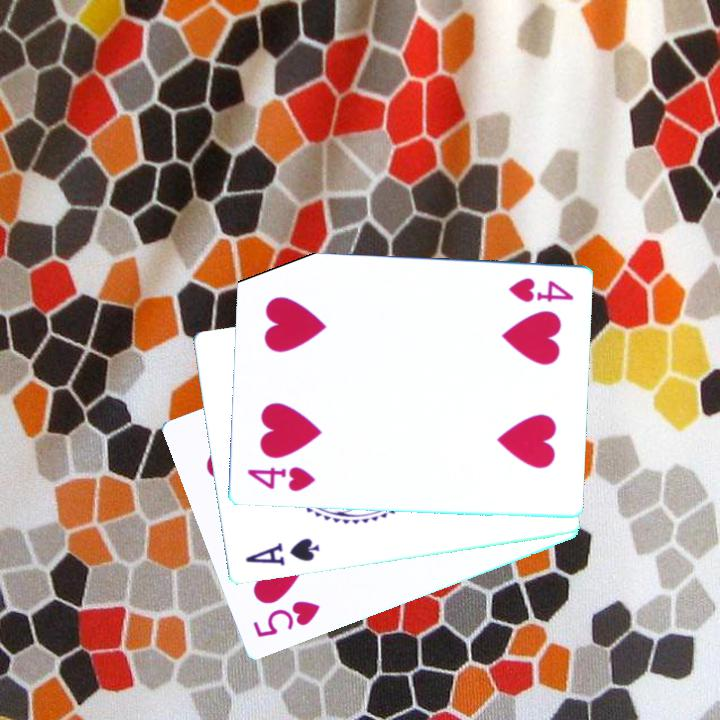4h: (243, 463, 318, 495), (504, 274, 576, 305)
5h: (249, 597, 323, 641)
As: (241, 535, 319, 569)
